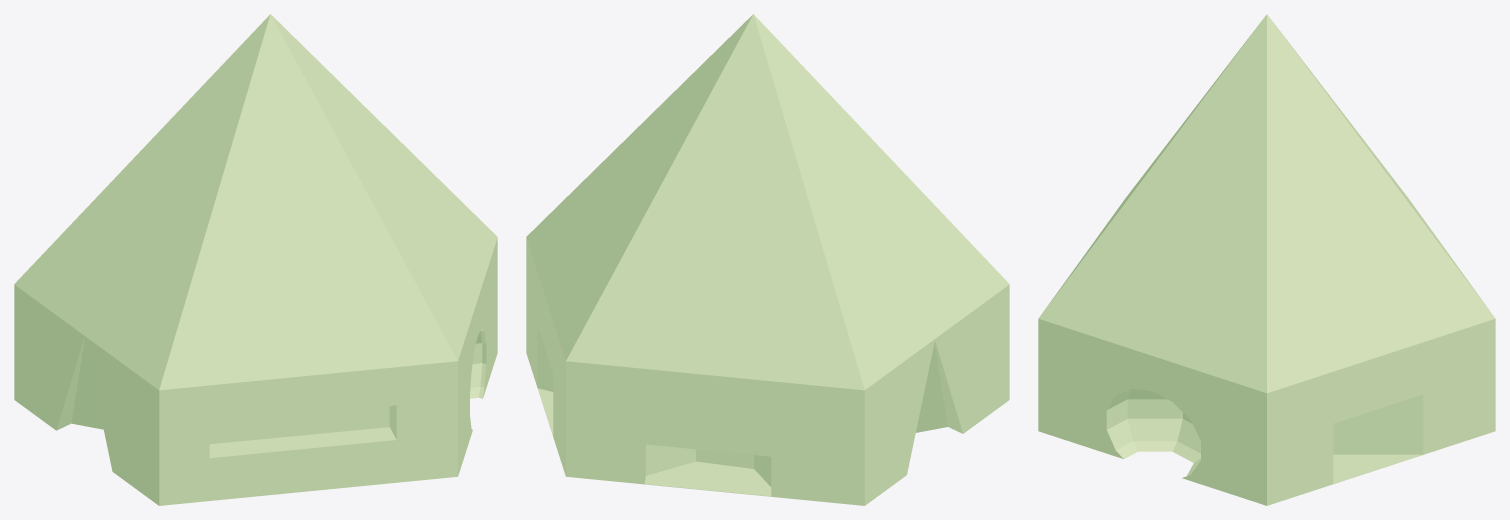
The model's file is House2.fbx.
The picture shows the model from 3 angles, left to right: view 1: azimuth 30°, elevation 25°; view 2: azimuth 150°, elevation 25°; view 3: azimuth 270°, elevation 25°; orthographic projection. The views are drawn at different scales.
Visible parts, largest first — view 1: polySurface7; view 2: polySurface7; view 3: polySurface7.
Part boxes in pixels (x1,y1,x2,y2): polySurface7: (14,14,497,505); polySurface7: (526,14,1009,505); polySurface7: (1038,14,1495,505).
Size of the model in its own units: 16.24 by 14.88 by 16.06.
